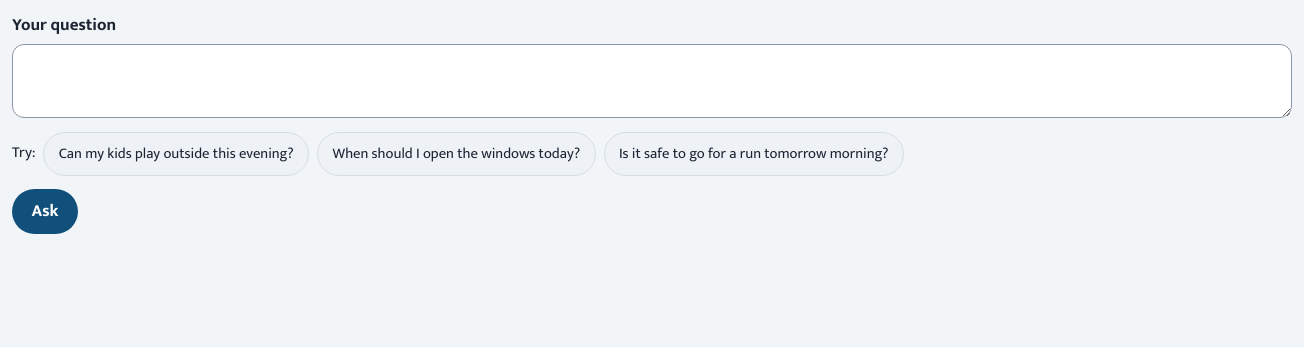
Scenario: AskPanel › needs a real question, and shows the built-in answer's notice
The image size is (1304, 347).
Type "Hi" into the text box labelled "Your question" at coordinates (652, 81), box left=12, top=44, right=1292, bottom=118
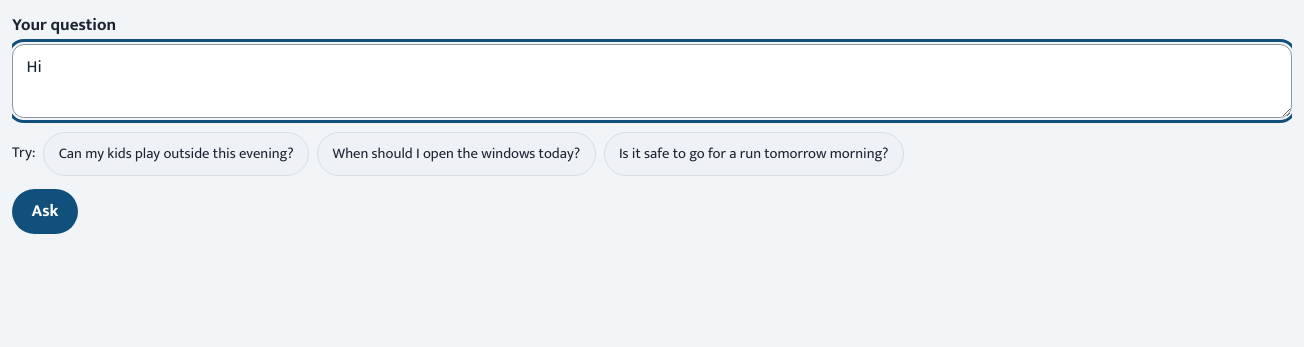
Click the button "Ask" at coordinates (45, 212), box left=12, top=189, right=78, bottom=234
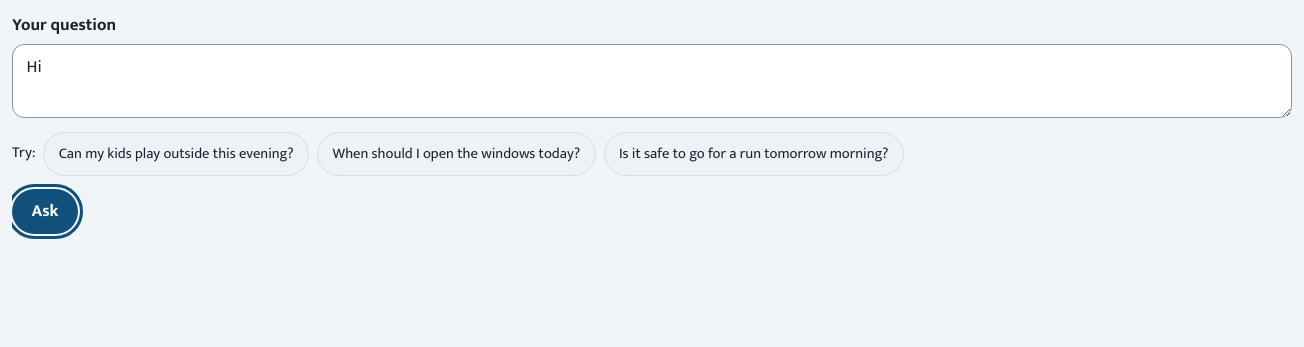
Type " there, is today ok?" into the text box labelled "Your question" at coordinates (652, 81), box left=12, top=44, right=1292, bottom=118
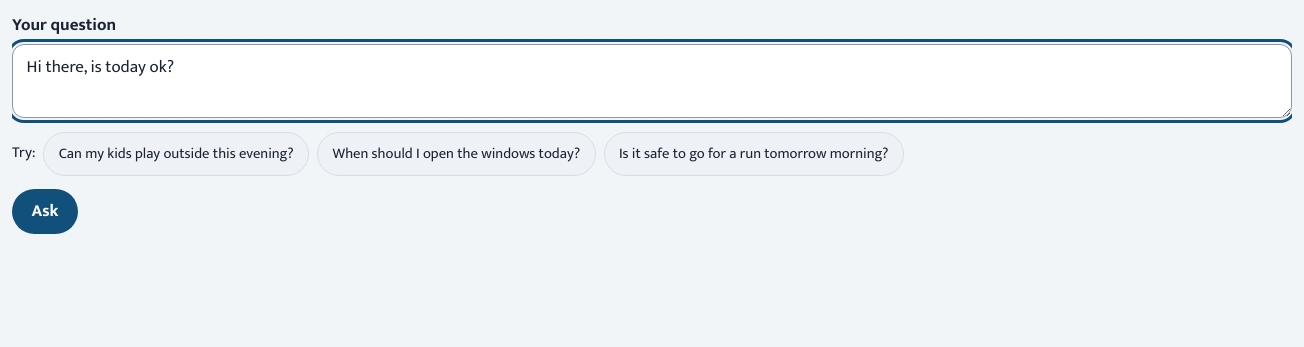
Click the button "Ask" at coordinates (45, 212), box left=12, top=189, right=78, bottom=234
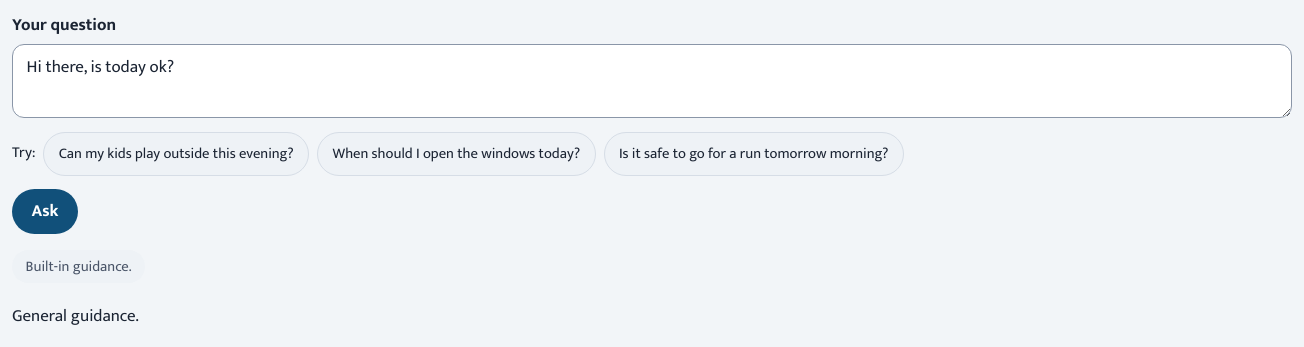
Result: the text "General guidance." is shown at left=12, top=302, right=139, bottom=330
Result: the text "Built-in guidance." is shown at left=12, top=250, right=145, bottom=283
